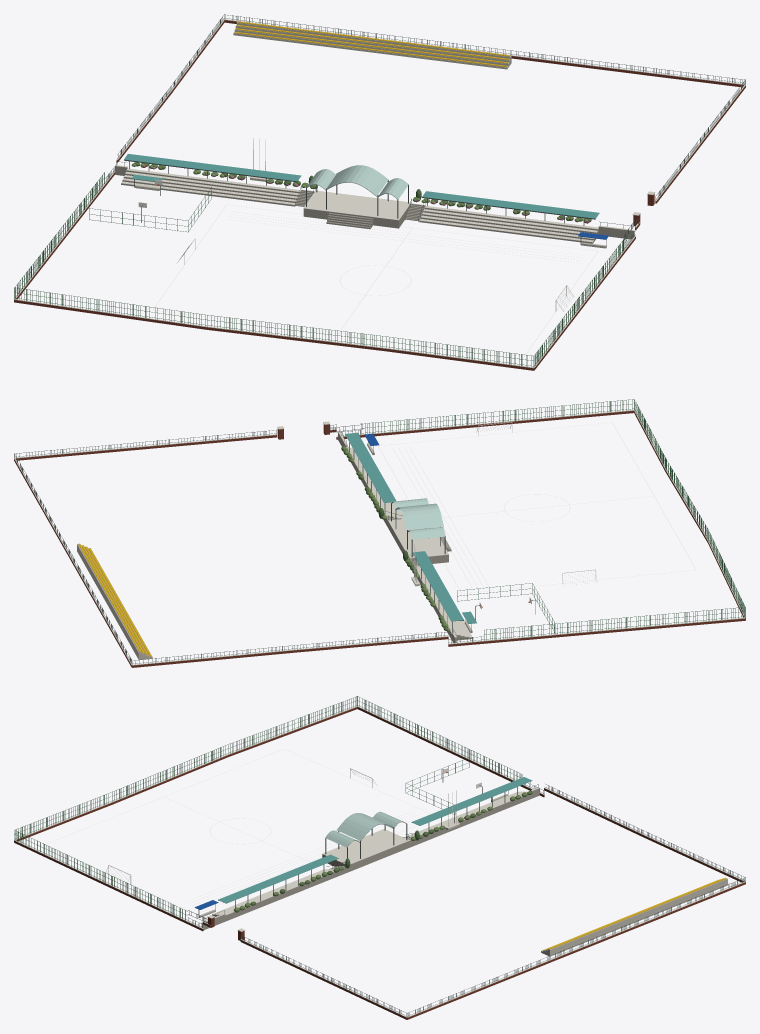
The picture shows the model from 3 angles, top to bottom: view 1: azimuth 30°, elevation 25°; view 2: azimuth 150°, elevation 25°; view 3: azimuth 270°, elevation 25°; orthographic projection. The views are drawn at different scales.
Visible parts, largest first — view 1: prop_boundary-fence, prop_front-stand, prop_arch-stage, prop_north-bleachers, prop_front-canopies, prop_field-lines, prop_flowerbeds, prop_court-fence; view 2: prop_boundary-fence, prop_arch-stage, prop_front-canopies, prop_north-bleachers, prop_front-stand, prop_field-lines, prop_flowerbeds, prop_court-fence; view 3: prop_boundary-fence, prop_arch-stage, prop_front-stand, prop_front-canopies, prop_north-bleachers, prop_flowerbeds, prop_court-fence, prop_field-lines.
Boxes of the visible parts, x1,y1,x2,y2 form: prop_boundary-fence: (14, 14, 745, 370); prop_front-stand: (115, 161, 634, 243); prop_arch-stage: (303, 165, 411, 229); prop_north-bleachers: (233, 21, 511, 69); prop_front-canopies: (124, 154, 599, 225); prop_field-lines: (153, 204, 598, 356); prop_flowerbeds: (131, 162, 591, 223); prop_court-fence: (89, 174, 608, 248); prop_boundary-fence: (14, 399, 745, 667); prop_arch-stage: (388, 498, 451, 563); prop_front-canopies: (345, 432, 464, 633); prop_north-bleachers: (77, 543, 152, 659); prop_front-stand: (338, 428, 472, 643); prop_field-lines: (378, 422, 695, 593); prop_flowerbeds: (341, 446, 450, 631); prop_court-fence: (364, 433, 554, 632); prop_boundary-fence: (14, 696, 745, 1019); prop_arch-stage: (322, 811, 409, 872); prop_front-stand: (201, 784, 539, 929); prop_front-canopies: (218, 777, 532, 907); prop_north-bleachers: (541, 877, 727, 956); prop_flowerbeds: (233, 791, 532, 912); prop_court-fence: (195, 757, 508, 917); prop_field-lines: (43, 748, 429, 913).
Size of the model in its own units: 172 by 10.8 by 167.
